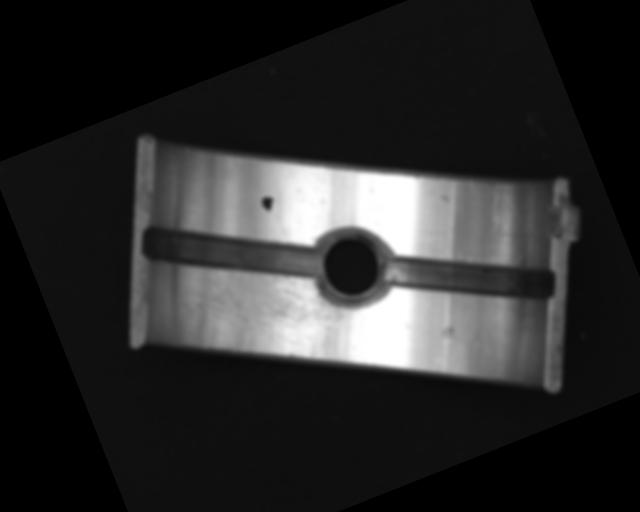blot: (258, 192, 278, 215)
bruise: (438, 322, 459, 345), (438, 193, 451, 206)
gap: (135, 174, 325, 331), (379, 206, 562, 352)
hole: (303, 216, 401, 320)
nick: (477, 181, 519, 235)
scratch: (184, 222, 376, 404)
